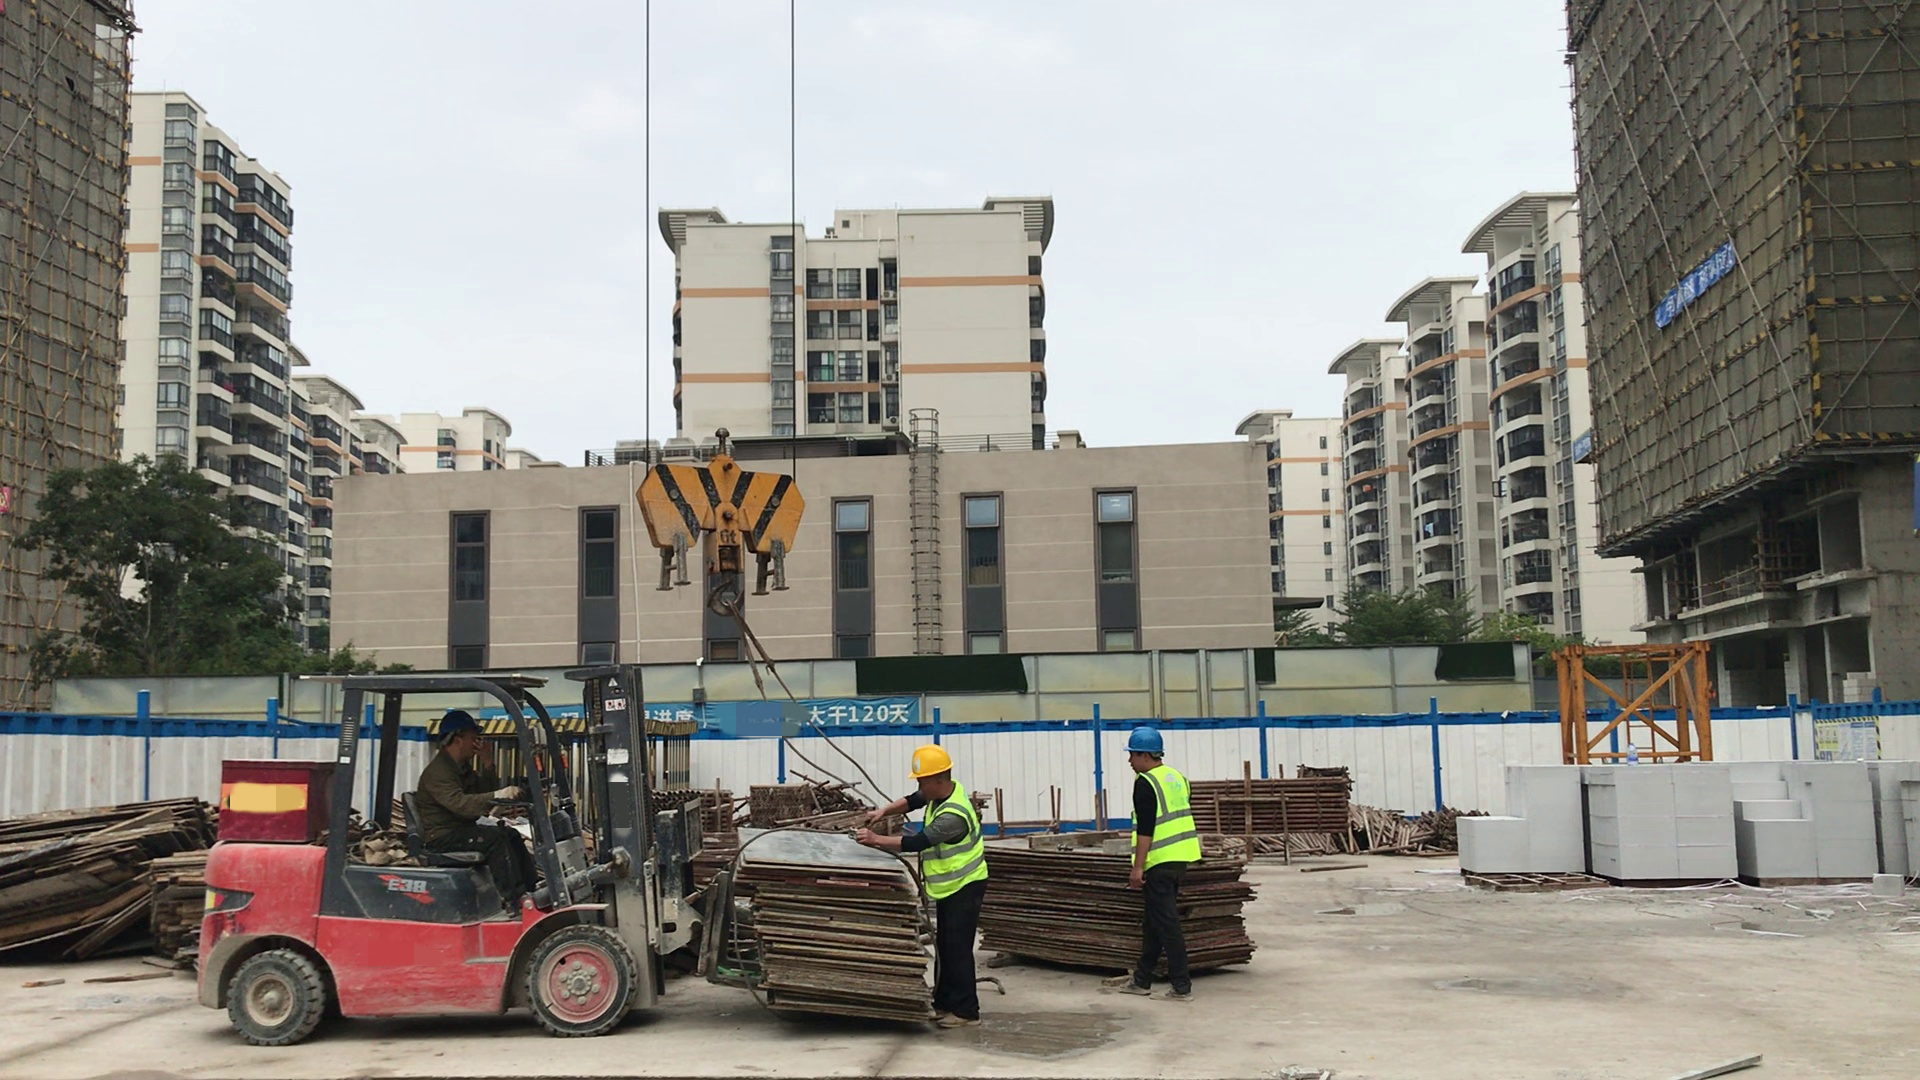board: (965, 816, 1285, 1007), (725, 811, 956, 1049), (1, 781, 213, 984)
brick: (1421, 751, 1920, 906)
helmet: (428, 696, 486, 754), (1124, 716, 1190, 764), (898, 739, 961, 787)
hook: (613, 401, 838, 631)
person: (856, 727, 1012, 1030), (409, 697, 609, 923), (1101, 704, 1233, 1003)
scaffold: (1188, 766, 1360, 842), (648, 783, 743, 829)
slogan: (487, 695, 946, 745), (1634, 239, 1758, 342), (1808, 715, 1894, 772), (1558, 418, 1602, 470)
vest: (906, 785, 989, 903), (1124, 762, 1209, 877)
